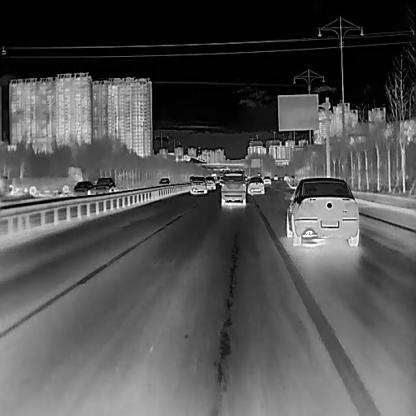car: (285, 176, 359, 246), (219, 169, 245, 206), (94, 176, 115, 192), (189, 175, 207, 193), (246, 176, 264, 193), (72, 180, 93, 194), (204, 176, 215, 188), (157, 176, 169, 186), (262, 174, 270, 184)
truck: (8, 165, 86, 197)
